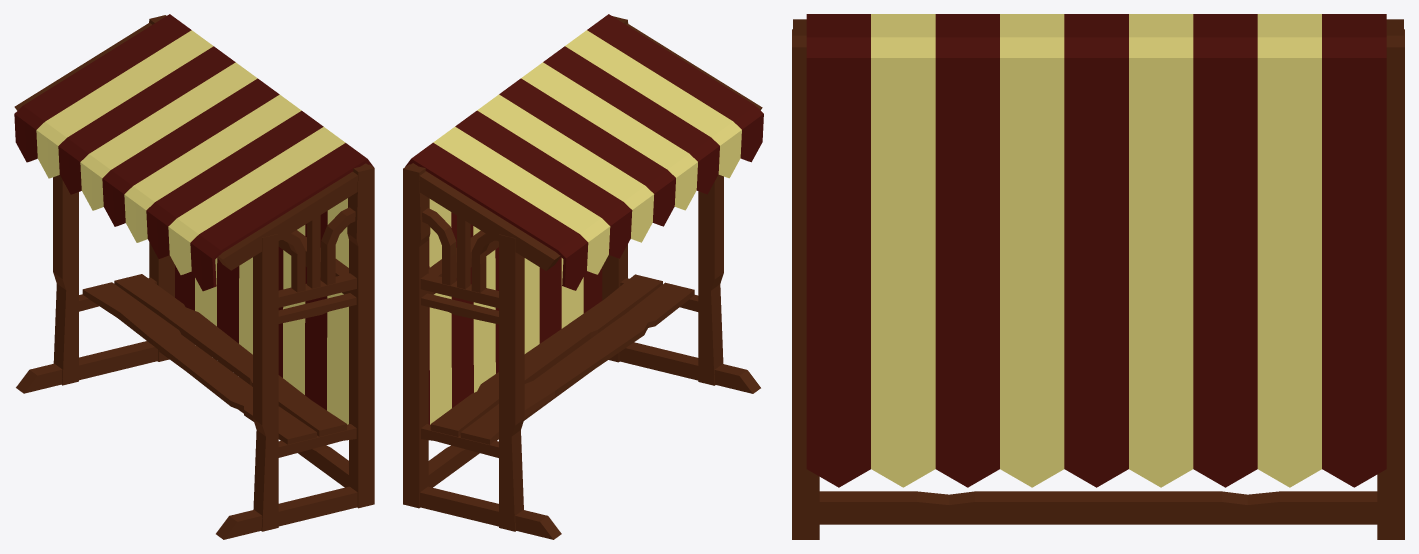
File: Village_MarketStand_2.glb
3 views of the same model, side by side, from view 1: azimuth 30°, elevation 25°; view 2: azimuth 150°, elevation 25°; view 3: azimuth 270°, elevation 25° (orthographic). The views are drawn at different scales.
Visible parts, largest first — view 1: MarketStand_2; view 2: MarketStand_2; view 3: MarketStand_2.
Part boxes in pixels (x1,y1,x2,y2): MarketStand_2: (14,14,374,539); MarketStand_2: (403,14,763,539); MarketStand_2: (792,14,1404,539).
Bounding box in the file's own units: 51.72 × 104 × 115.
